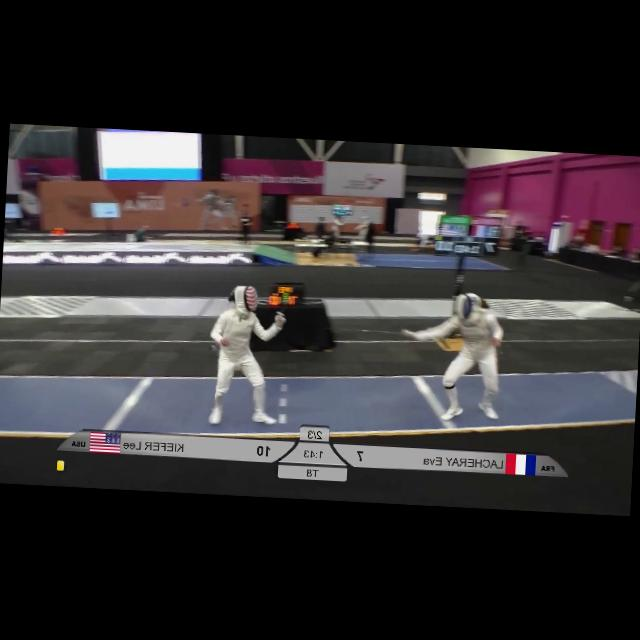blade: (323, 323, 412, 342)
